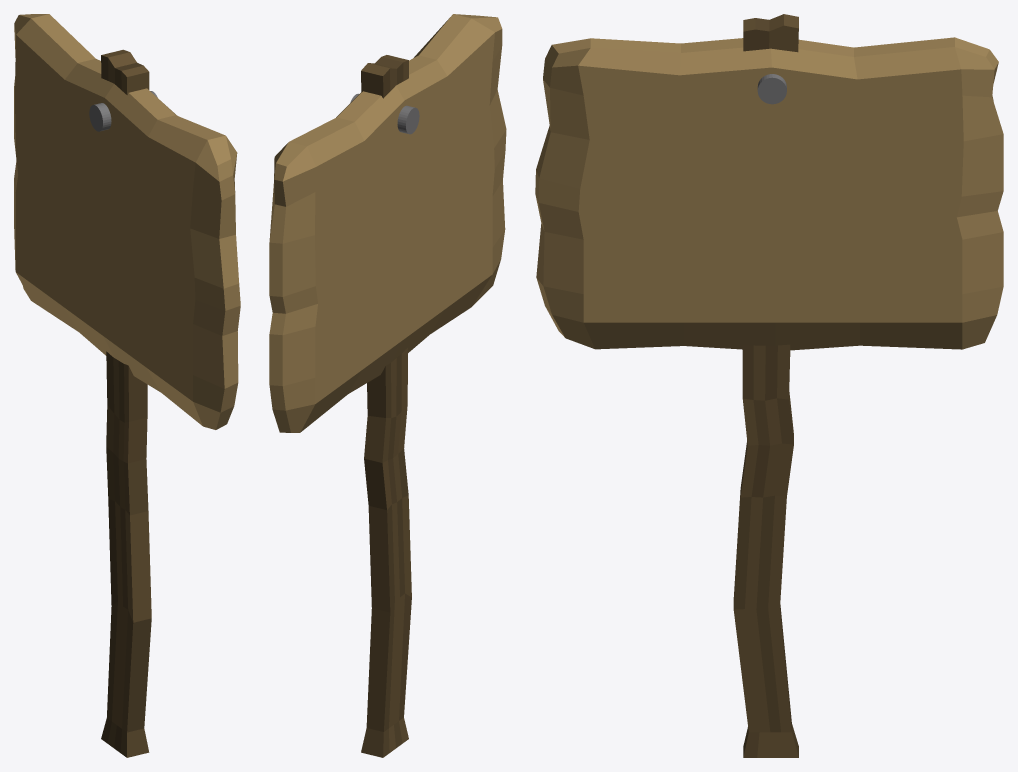
The model's file is Cartel.fbx.
3 renders of one model, left to right at view 1: azimuth 30°, elevation 25°; view 2: azimuth 150°, elevation 25°; view 3: azimuth 270°, elevation 25°, orthographic. The views are drawn at different scales.
Parts seen in each view (by area): view 1: Cubo, Cubo.001, Cilindro; view 2: Cubo, Cubo.001, Cilindro; view 3: Cubo, Cubo.001.
Part boxes in pixels (<box>): Cubo: <box>14,14,240,429</box>; Cubo.001: <box>101,49,151,757</box>; Cilindro: <box>89,91,157,131</box>; Cubo: <box>269,14,506,432</box>; Cubo.001: <box>361,55,411,757</box>; Cilindro: <box>350,93,419,134</box>; Cubo: <box>535,37,1003,350</box>; Cubo.001: <box>733,14,798,757</box>.
Size of the model in its own units: 31.23 by 357 by 207.
